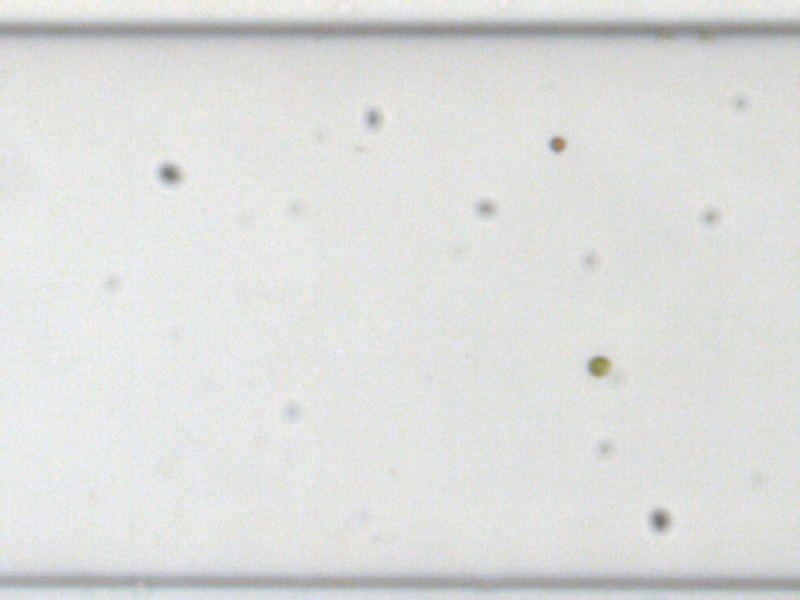Chlorella: (585, 355, 613, 376)
Porphyridium: (546, 134, 564, 153)
